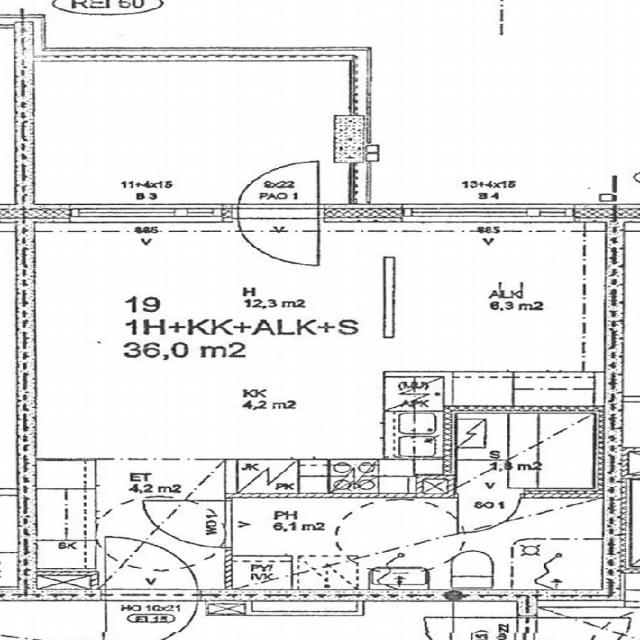door: (105, 536, 197, 600), (237, 161, 318, 218), (237, 208, 318, 264), (144, 501, 231, 547), (458, 494, 520, 533)
